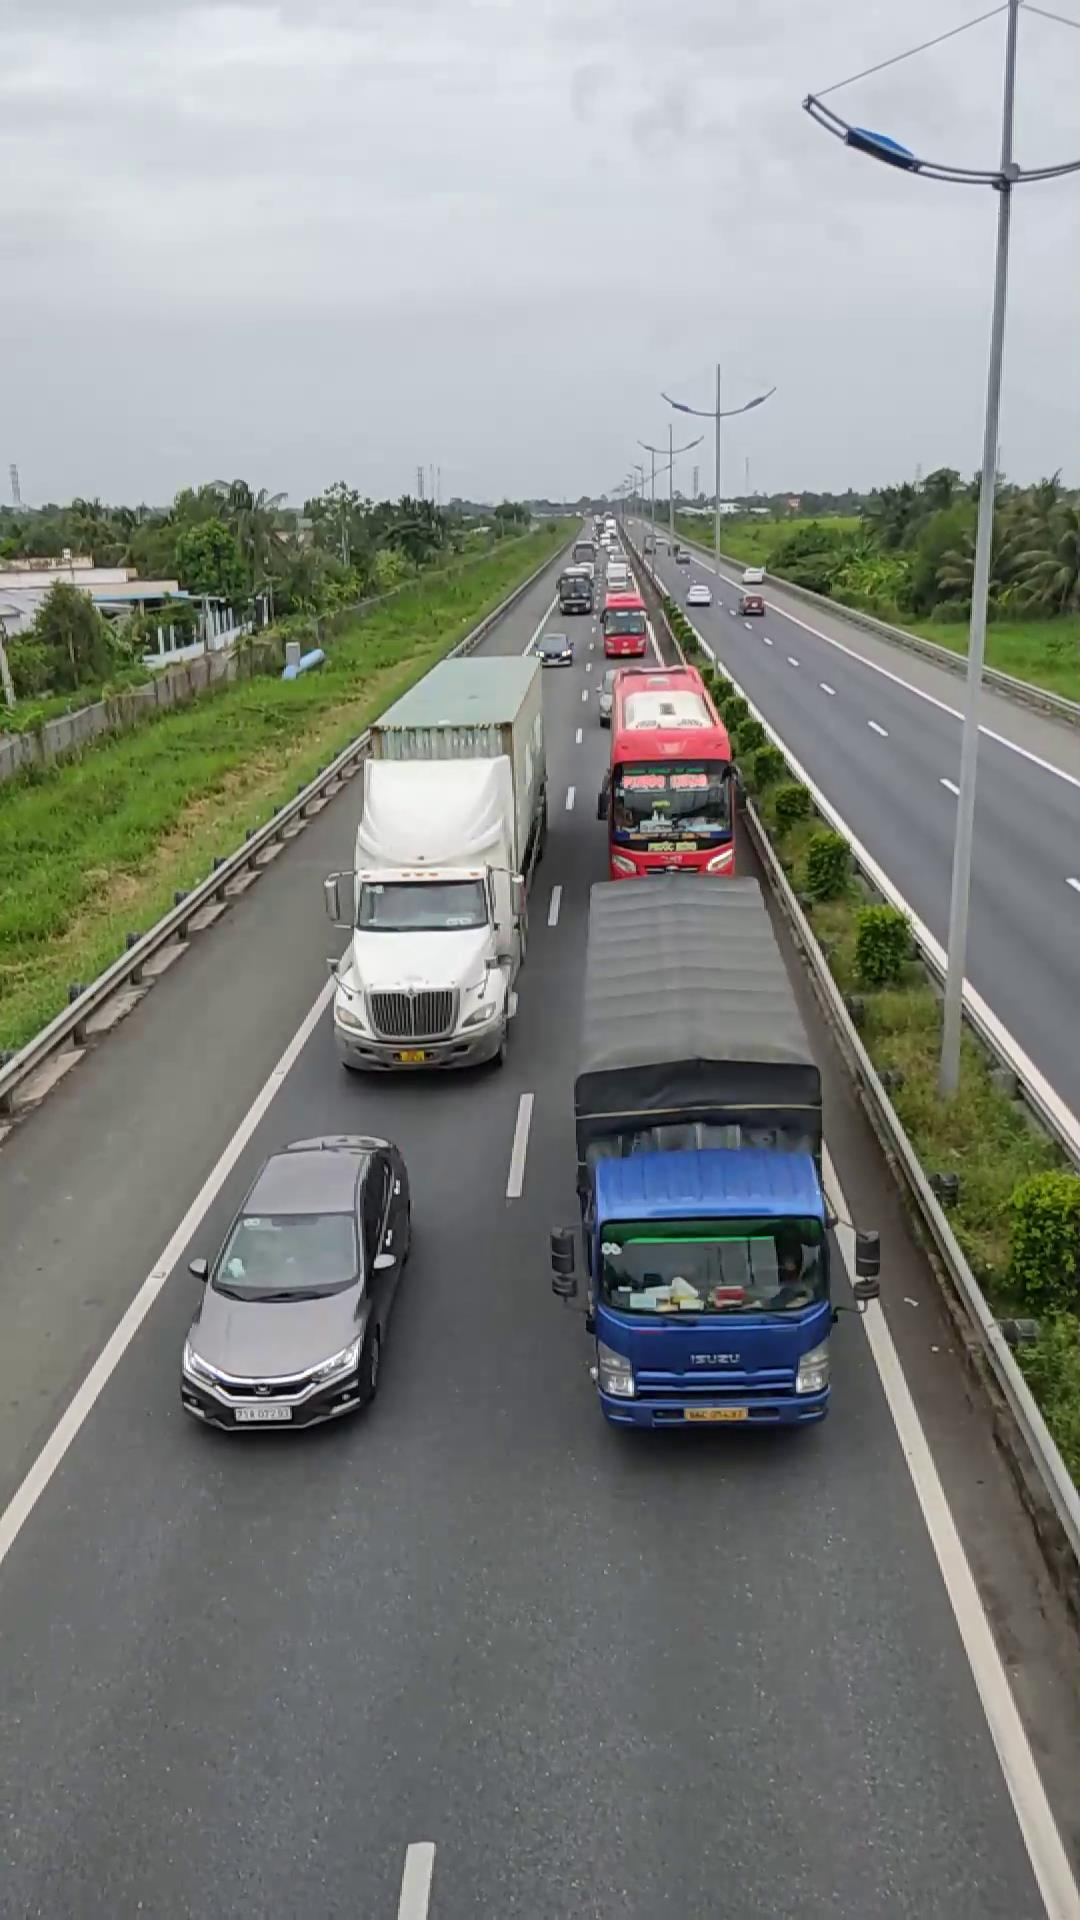car: (177, 1133, 417, 1429)
container: (329, 648, 551, 1077), (597, 658, 743, 873)
truck: (549, 898, 847, 1436)
